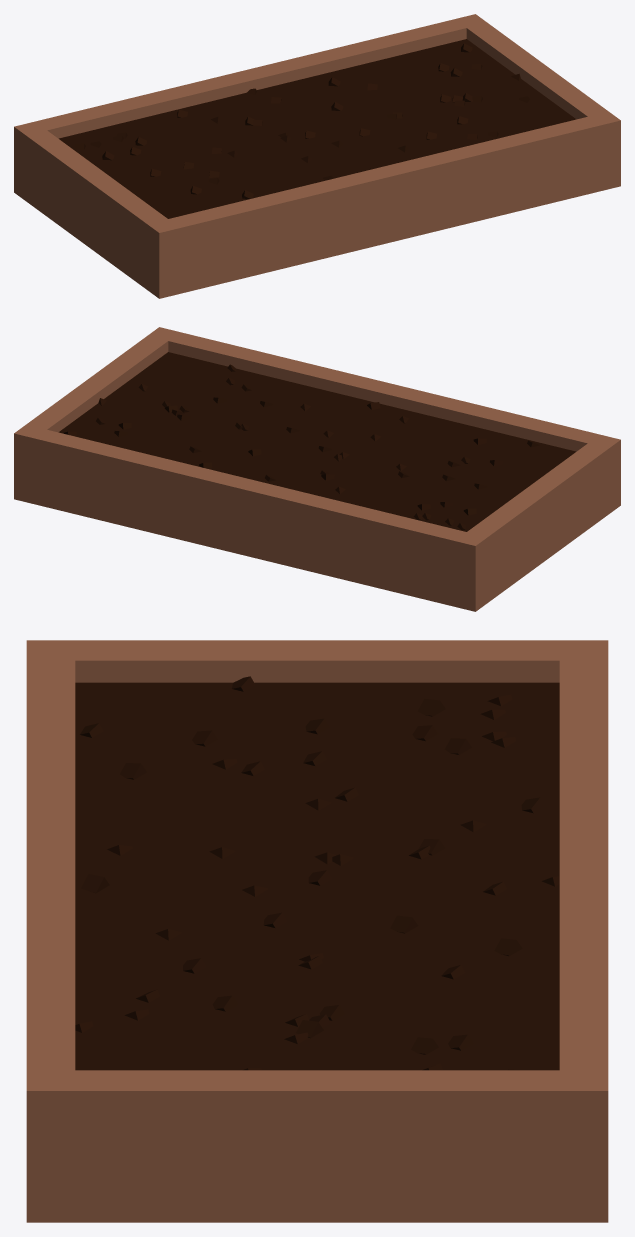
Rendered from raisedBed_I_1x2.glb.
3 views of the same model, one above another, from view 1: azimuth 30°, elevation 25°; view 2: azimuth 150°, elevation 25°; view 3: azimuth 270°, elevation 25° (orthographic). The views are drawn at different scales.
Parts seen in each view (by area): view 1: Cube; view 2: Cube; view 3: Cube.
Boxes of the visible parts, x1,y1,x2,y2 form: Cube: (14, 14, 620, 298); Cube: (14, 327, 620, 611); Cube: (26, 640, 608, 1222).
Size of the model in its own units: 4.4 by 0.6 by 2.4.
